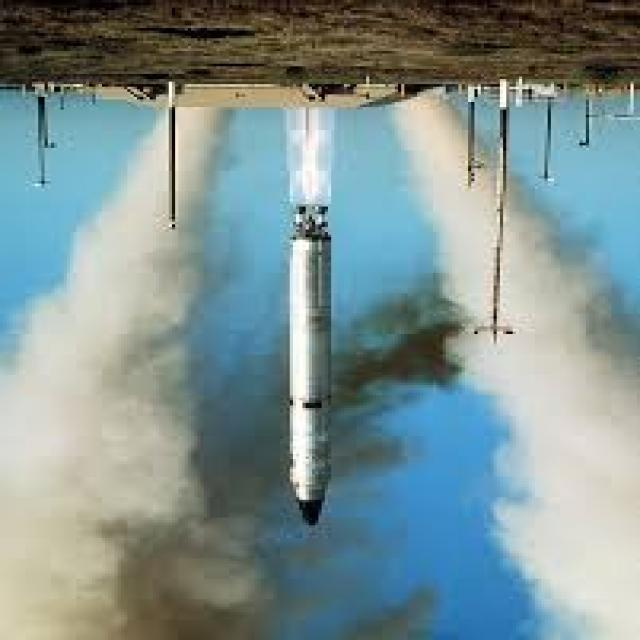Missile: (280, 192, 344, 531)
